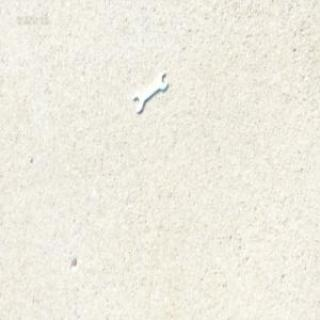Wrenchtrack_idkeyframe: (132, 71, 168, 113)
